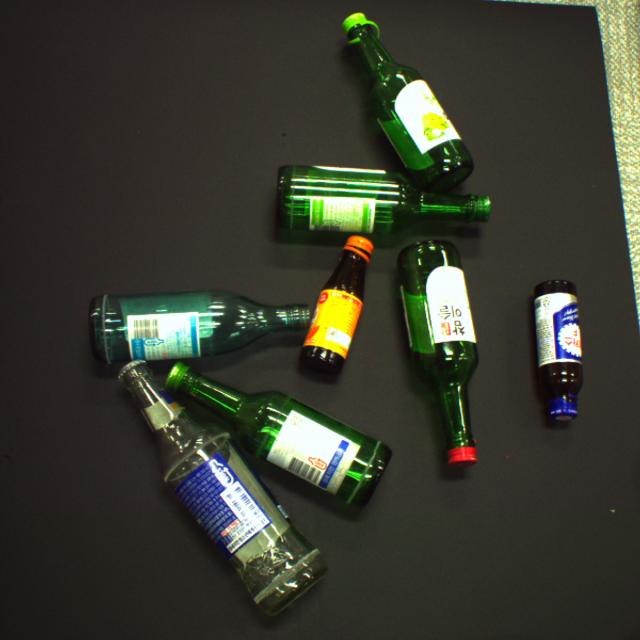beer-bottle: (119, 358, 326, 615)
soju-bottle: (166, 363, 391, 504), (342, 13, 474, 191), (398, 240, 478, 466), (90, 290, 310, 363), (277, 164, 491, 235)
